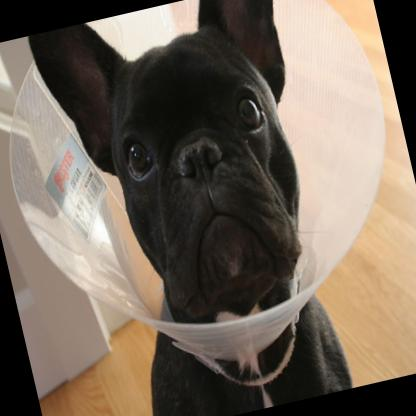French_bulldog: (24, 0, 365, 416)
